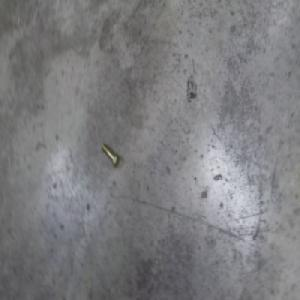Bolt: (100, 142, 120, 168)
